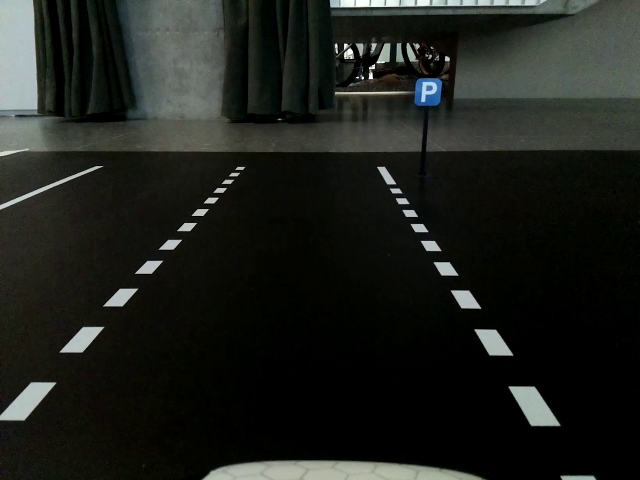park: (414, 77, 442, 106)
